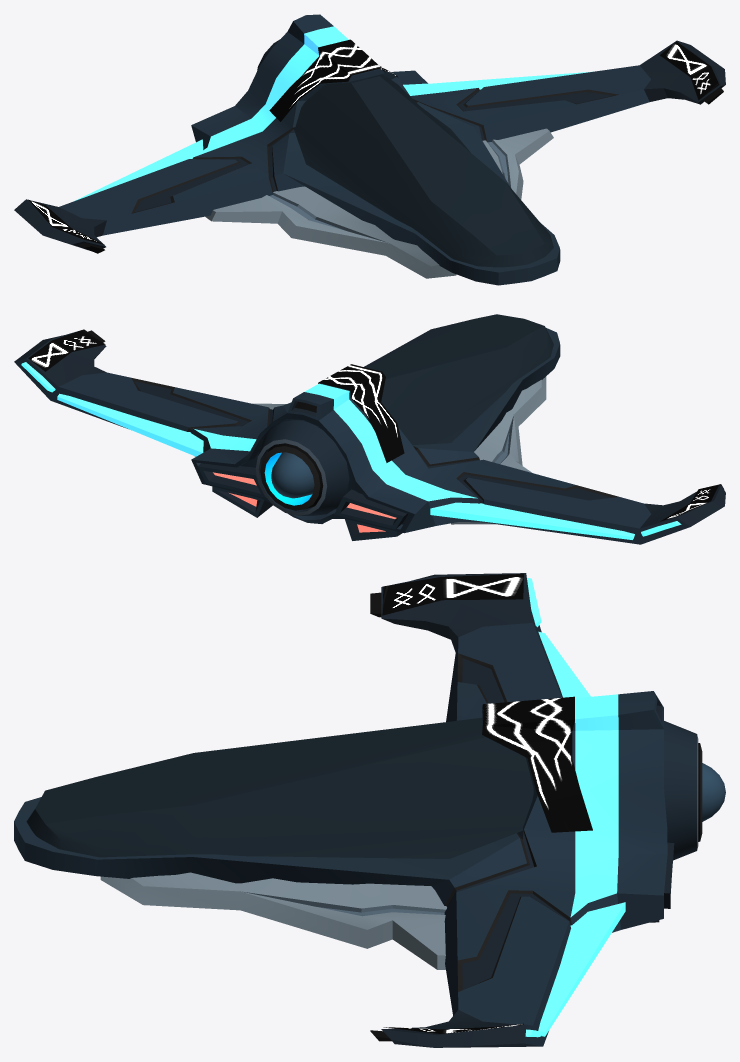
Rendered from PlayerShip_0_.fbx.
3 renders of one model, top to bottom at view 1: azimuth 30°, elevation 25°; view 2: azimuth 150°, elevation 25°; view 3: azimuth 270°, elevation 25°, orthographic. The views are drawn at different scales.
Parts seen in each view (by area): view 1: Raptor_ship; view 2: Raptor_ship; view 3: Raptor_ship.
Boxes of the visible parts, x1,y1,x2,y2 form: Raptor_ship: [14, 14, 725, 285]; Raptor_ship: [14, 314, 725, 544]; Raptor_ship: [14, 573, 725, 1047].
Bounding box in the file's own units: 2887 × 520 × 1836.
1 material, 1 textured.
